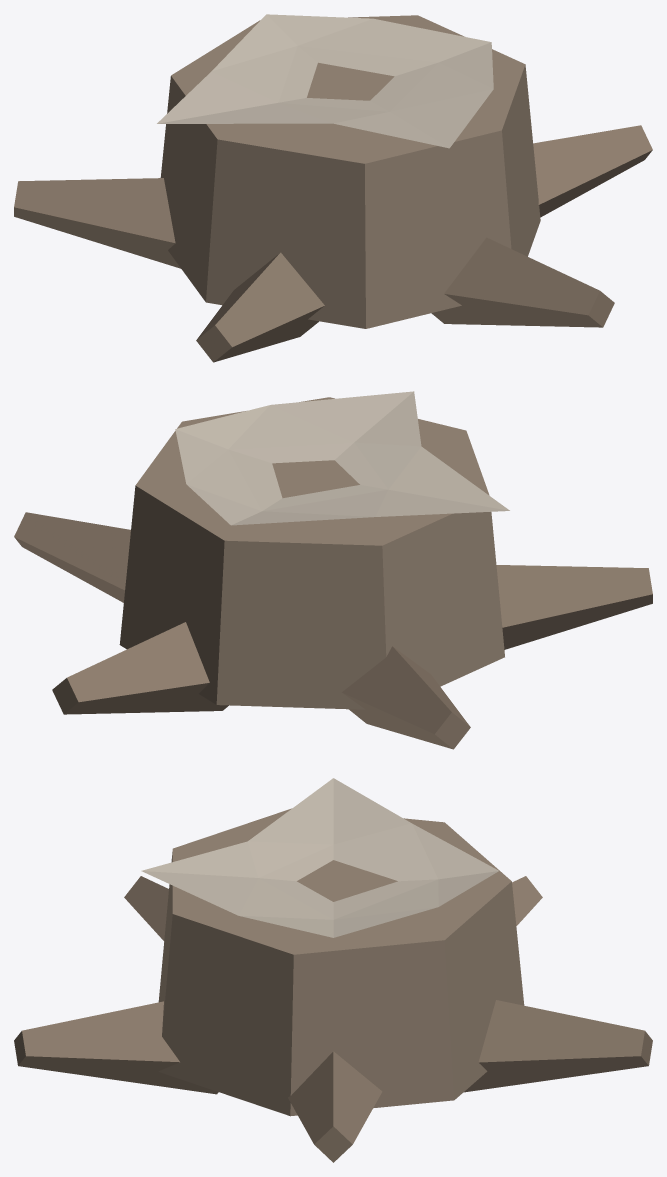
The model's file is stump_v06.glb.
3 views of the same model, one above another, from view 1: azimuth 30°, elevation 25°; view 2: azimuth 150°, elevation 25°; view 3: azimuth 270°, elevation 25° (orthographic). The views are drawn at different scales.
Parts seen in each view (by area): view 1: lod0; view 2: lod0; view 3: lod0.
Part boxes in pixels (x1,y1,x2,y2): lod0: [14, 14, 652, 362]; lod0: [14, 391, 652, 749]; lod0: [14, 778, 652, 1162].
Size of what is drawn, in the model's own units: 1.07 by 0.4359 by 1.12.
